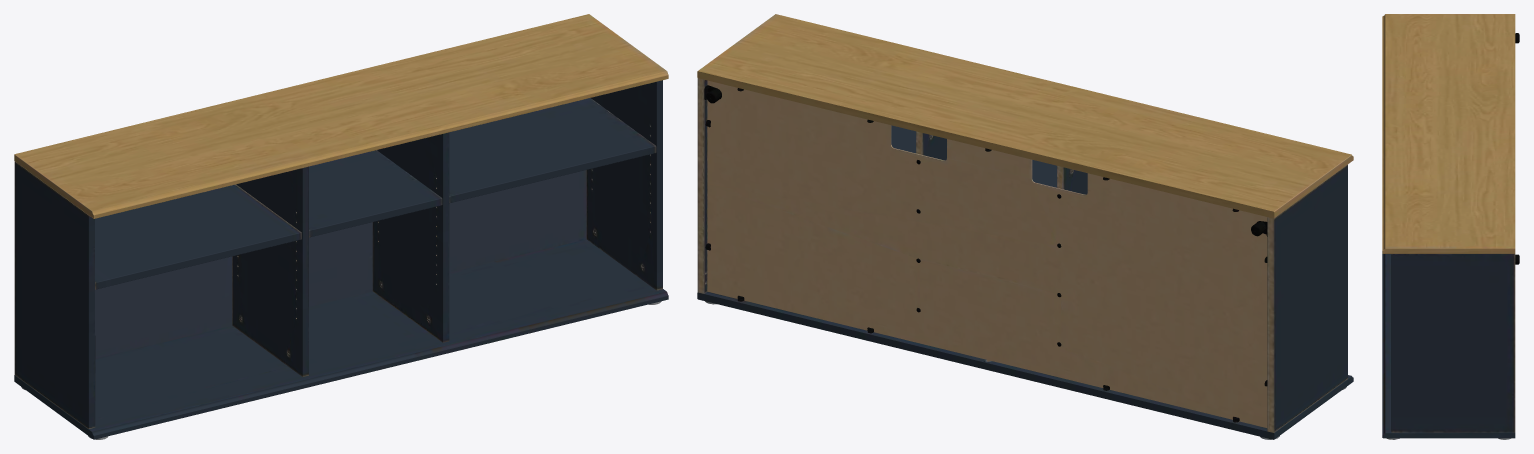
Rendered from 36 - SKRUVBY - 電視櫃, 黑藍色, 156x38x60 公分 IKEA 線上購物.glb.
3 views of the same model, side by side, from view 1: azimuth 30°, elevation 25°; view 2: azimuth 150°, elevation 25°; view 3: azimuth 270°, elevation 25° (orthographic). The views are drawn at different scales.
Parts seen in each view (by area): view 1: 10520364-SKRUVBY001.001; view 2: 10520364-SKRUVBY001.001; view 3: 10520364-SKRUVBY001.001.
Part boxes in pixels (bbox=[...]): 10520364-SKRUVBY001.001: bbox=[14, 14, 668, 439]; 10520364-SKRUVBY001.001: bbox=[697, 14, 1353, 439]; 10520364-SKRUVBY001.001: bbox=[1382, 14, 1519, 439].
Bounding box in the file's own units: 1.57 × 0.6004 × 0.387.
1 material, 1 textured.
